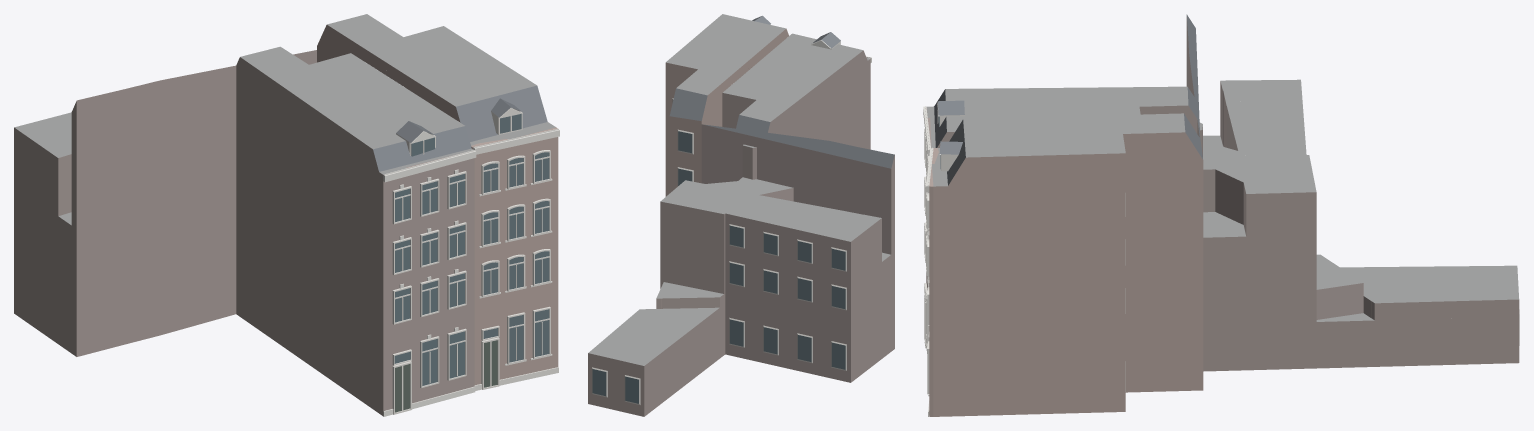
Rendered from chunk-face-lauriergracht-62-110-h3.glb.
3 renders of one model, left to right at view 1: azimuth 30°, elevation 25°; view 2: azimuth 150°, elevation 25°; view 3: azimuth 270°, elevation 25°, orthographic. The views are drawn at different scales.
Parts seen in each view (by area): view 1: face-lauriergracht-62-110-h3; view 2: face-lauriergracht-62-110-h3; view 3: face-lauriergracht-62-110-h3.
Part boxes in pixels (x1,y1,x2,y2): face-lauriergracht-62-110-h3: (14, 14, 559, 416); face-lauriergracht-62-110-h3: (588, 14, 894, 416); face-lauriergracht-62-110-h3: (923, 14, 1519, 416).
Bounding box in the file's own units: 20.47 × 15.34 × 32.07.
